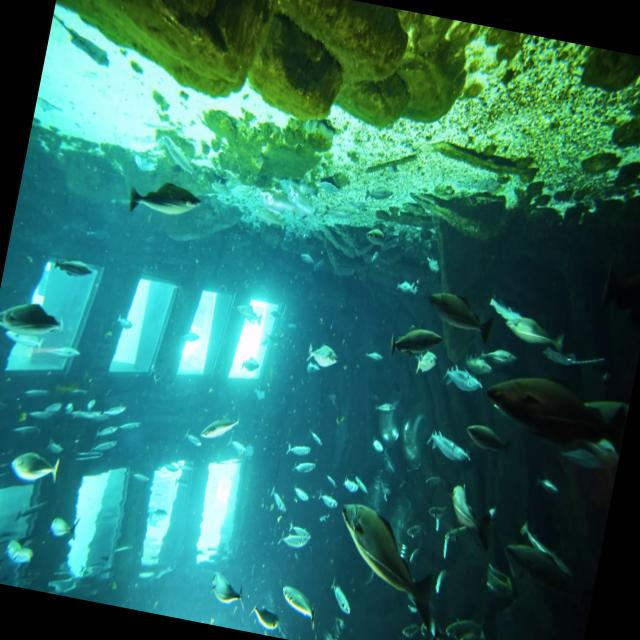fish: (322, 507, 452, 632), (480, 372, 630, 458), (420, 289, 498, 347), (126, 177, 203, 228), (0, 293, 67, 342), (442, 485, 499, 542), (385, 322, 445, 364), (8, 447, 62, 490), (422, 428, 476, 468), (276, 578, 322, 624), (462, 422, 512, 461), (440, 360, 488, 396), (246, 599, 284, 634), (208, 574, 247, 608), (52, 255, 96, 285), (478, 346, 521, 374), (304, 341, 340, 373)
